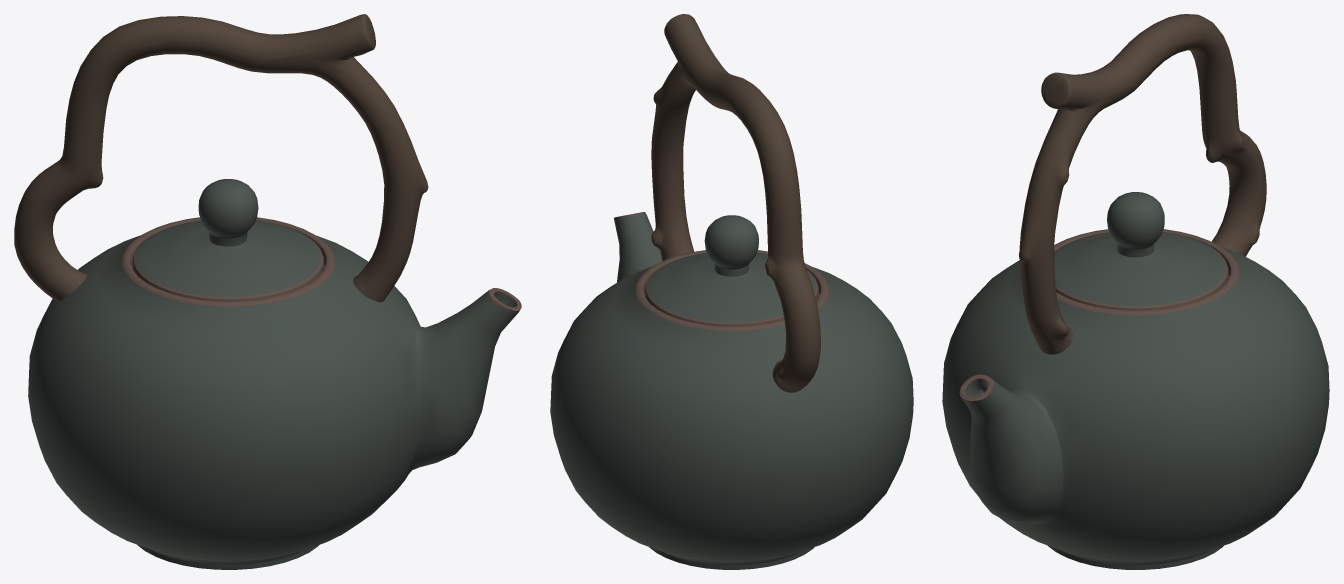
3 renders of one model, left to right at view 1: azimuth 30°, elevation 25°; view 2: azimuth 150°, elevation 25°; view 3: azimuth 270°, elevation 25°, orthographic. The views are drawn at different scales.
Parts seen in each view (by area): view 1: SY-茶壶; view 2: SY-茶壶; view 3: SY-茶壶.
Part boxes in pixels (bbox=[...]): SY-茶壶: bbox=[14, 14, 521, 569]; SY-茶壶: bbox=[550, 14, 913, 569]; SY-茶壶: bbox=[942, 14, 1329, 569].
Size of the model in its own units: 0.1974 by 0.1788 by 0.2557.
